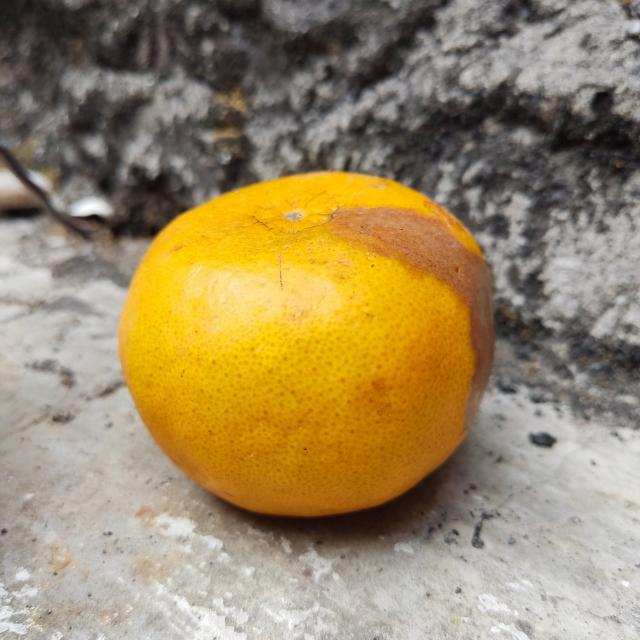orange: (114, 169, 497, 514)
